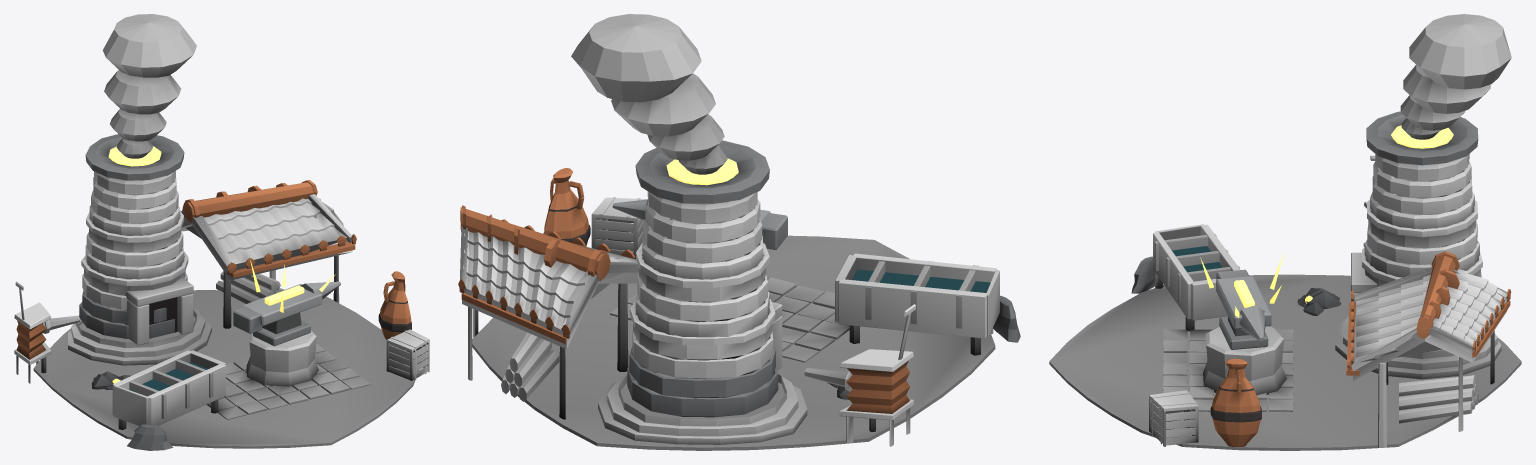
File: hephaestus-forge-l1.glb
3 renders of one model, left to right at view 1: azimuth 30°, elevation 25°; view 2: azimuth 150°, elevation 25°; view 3: azimuth 270°, elevation 25°, orthographic. The views are drawn at different scales.
Parts seen in each view (by area): view 1: hephaestus-forge-l1; view 2: hephaestus-forge-l1; view 3: hephaestus-forge-l1.
Part boxes in pixels (left/top/right/bottom): hephaestus-forge-l1: left=14, top=14, right=429, bottom=450; hephaestus-forge-l1: left=458, top=14, right=1020, bottom=450; hephaestus-forge-l1: left=1049, top=14, right=1521, bottom=450.
Size of the model in its own units: 1.52 by 1.34 by 1.64.
